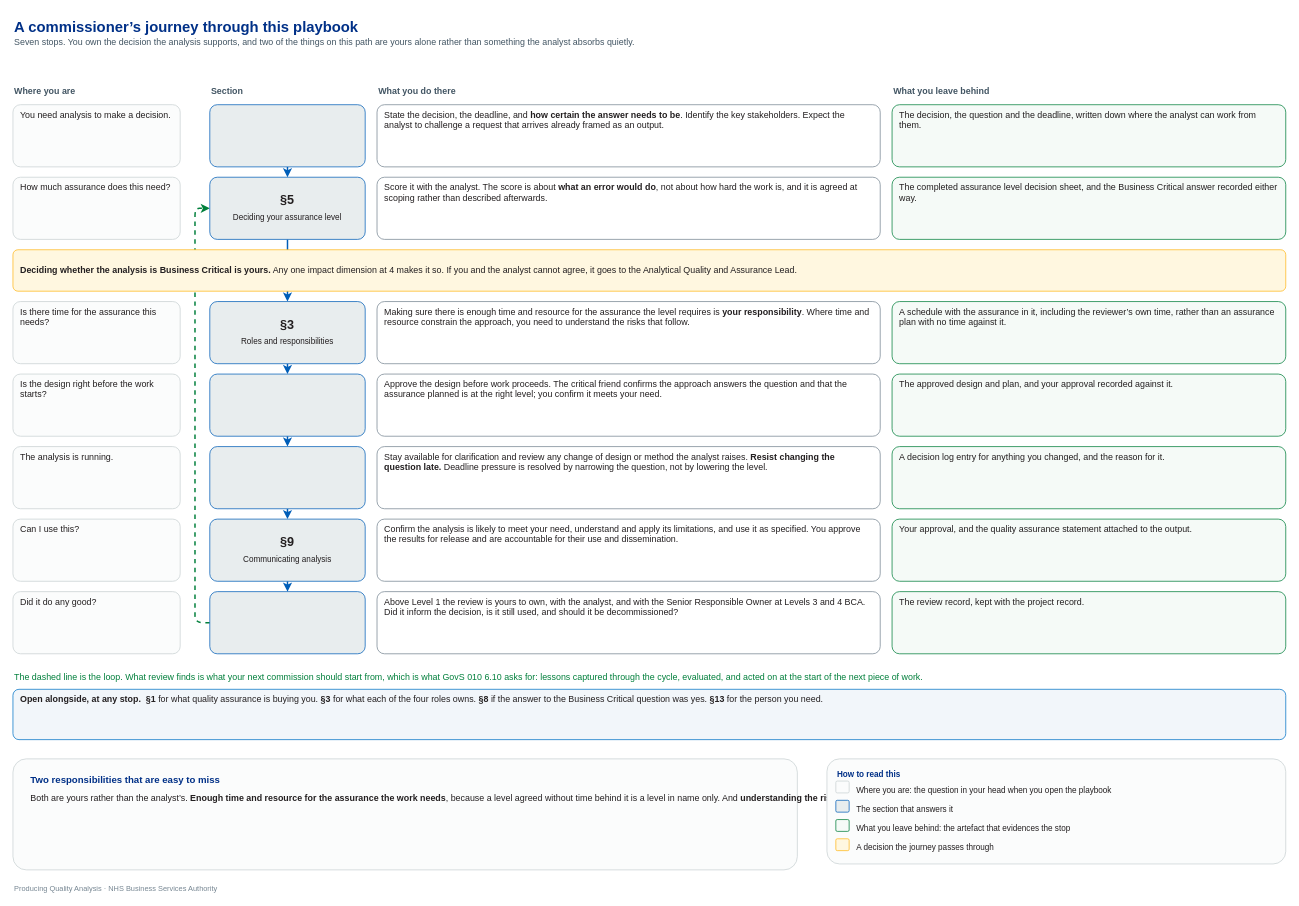
This 1299x906 diagram has some shape labels left out. The shapes that lost their labels are listed below. From the top down, each one's centre as x and y in pixels, then its label:
the point at 287,135: §4 The analytical lifecycle, phase 1
the point at 287,404: §4 The analytical lifecycle, phase 2
the point at 287,477: §4 The analytical lifecycle, phase 3
the point at 287,622: §11 Review and continuous improvement
